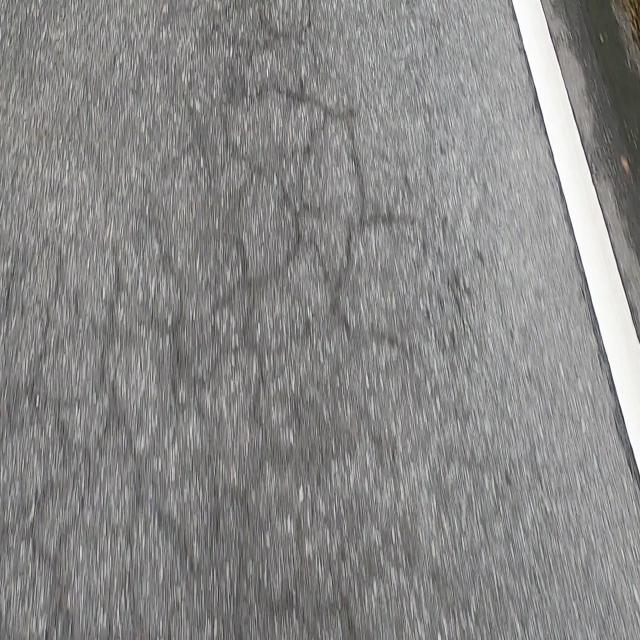Retak-Buaya: (1, 4, 417, 635)
